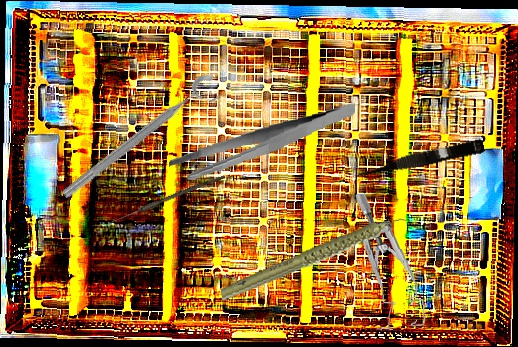Dressing Forceps: (165, 102, 360, 182)
Fixation Ring: (57, 69, 227, 212)
Handpiece: (213, 214, 419, 303)
Micro Scissor: (348, 135, 486, 184)
Speculum: (353, 189, 427, 332)
Surgical Spoon: (109, 172, 226, 226)
